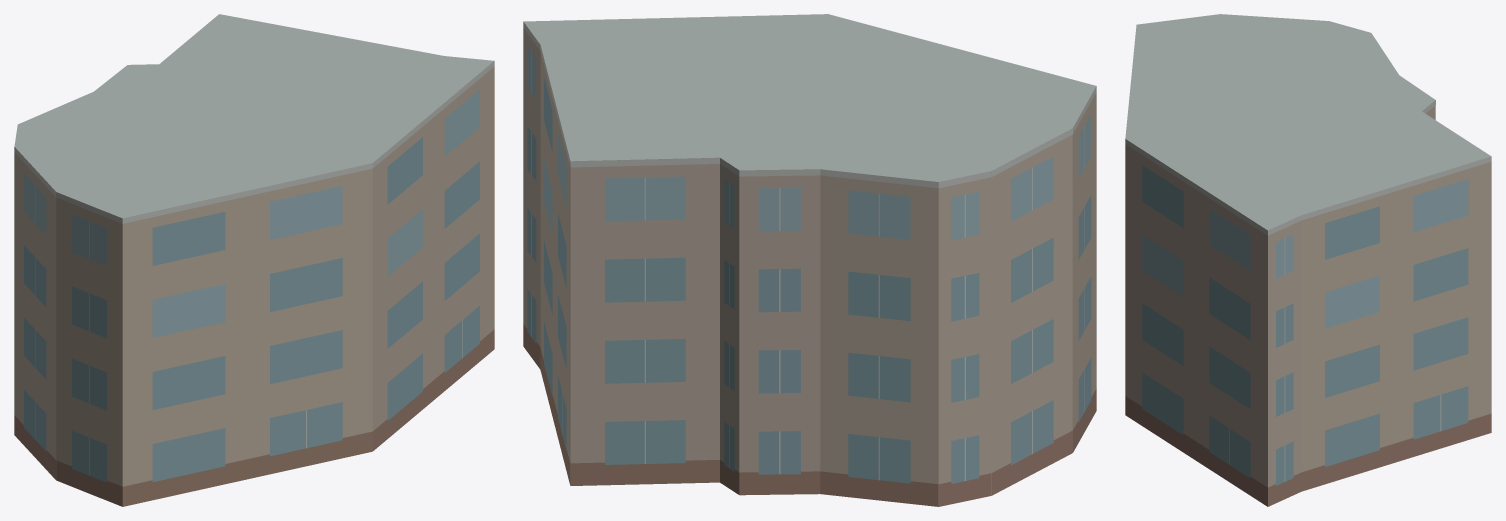
The model's file is survey-upis-32456507.glb.
The picture shows the model from 3 angles, left to right: view 1: azimuth 30°, elevation 25°; view 2: azimuth 150°, elevation 25°; view 3: azimuth 270°, elevation 25°; orthographic projection. The views are drawn at different scales.
Parts seen in each view (by area): view 1: survey-upis-32456507.tmp; view 2: survey-upis-32456507.tmp; view 3: survey-upis-32456507.tmp.
Part boxes in pixels (x1,y1,x2,y2): survey-upis-32456507.tmp: (14,14,494,506); survey-upis-32456507.tmp: (523,14,1096,506); survey-upis-32456507.tmp: (1125,14,1491,506).
Size of the model in its own units: 21.52 by 12.8 by 15.39.
